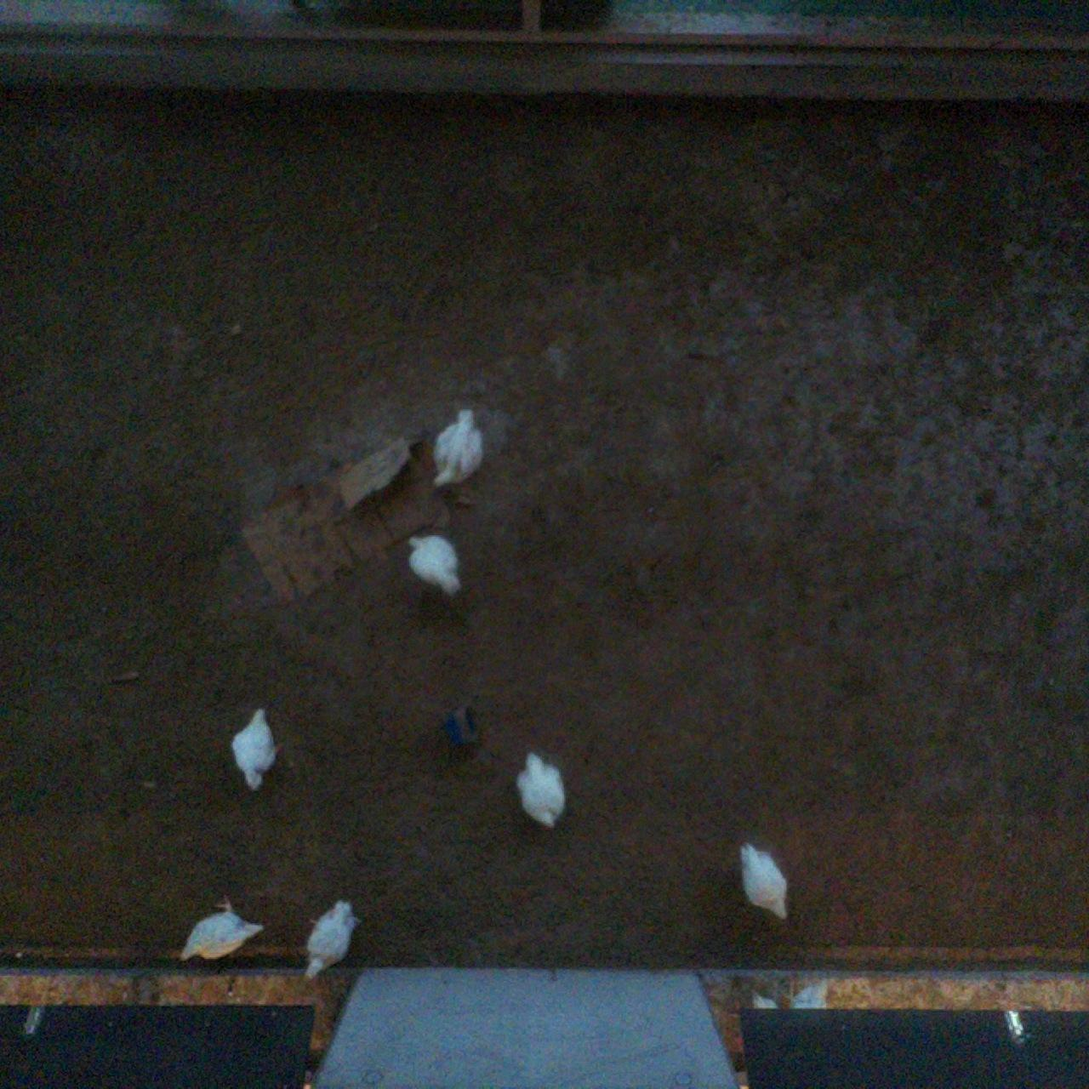chicken: (176, 892, 269, 967), (300, 893, 363, 979), (426, 403, 486, 491), (231, 703, 286, 794), (401, 529, 466, 601), (736, 841, 791, 923), (515, 750, 568, 833), (791, 978, 834, 1013)
